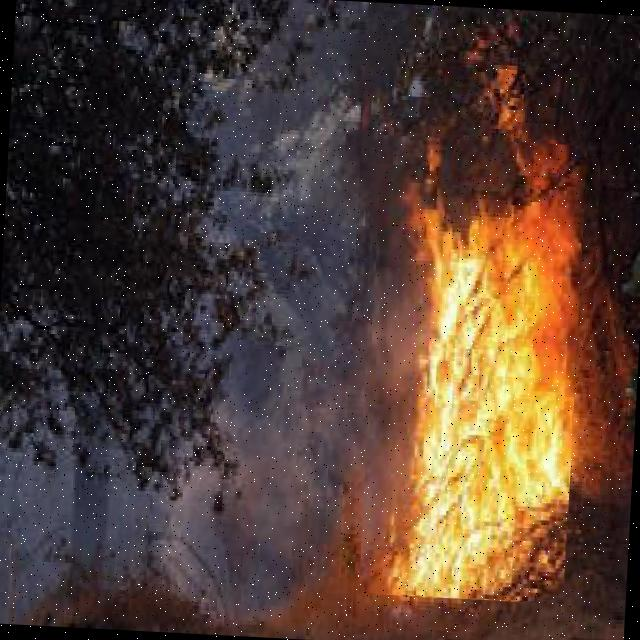fire: (358, 135, 588, 604)
